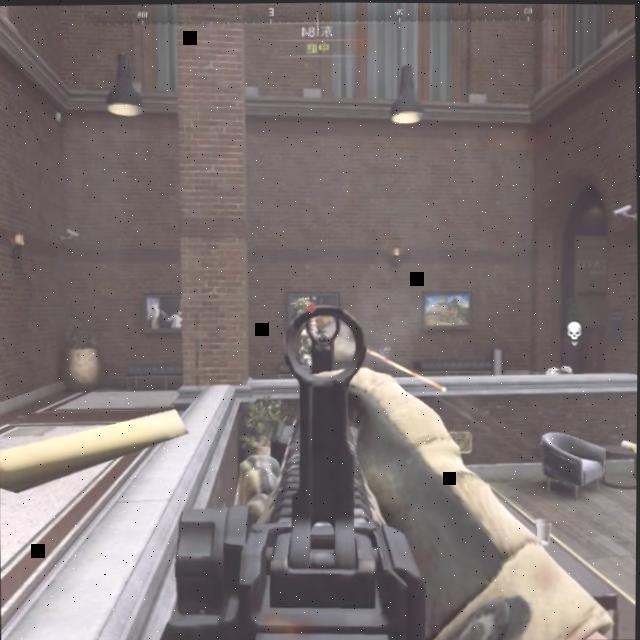MW2_body: (297, 300, 319, 365)
